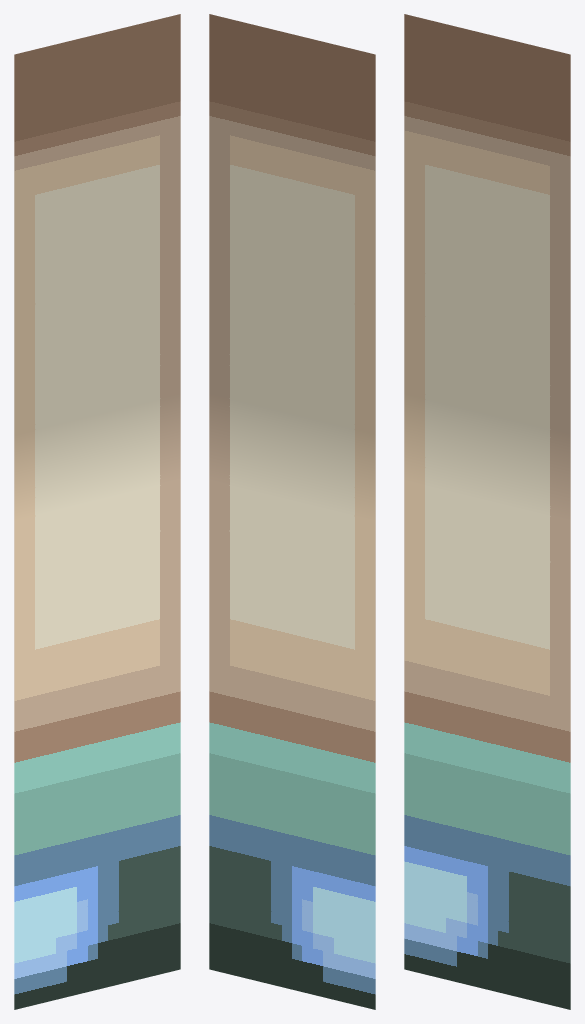
3 views of the same model, side by side, from view 1: azimuth 30°, elevation 25°; view 2: azimuth 150°, elevation 25°; view 3: azimuth 330°, elevation 25° (orthographic).
Size of the model in its own units: 1 by 5.5 by 0.
Materials: 1 (1 with a texture image).
